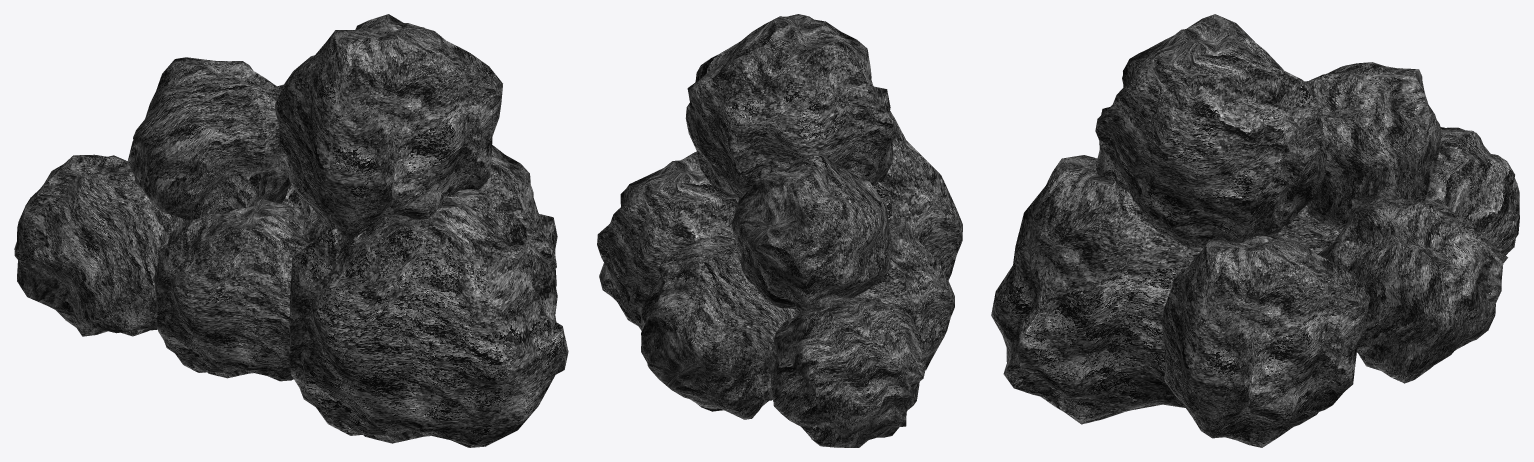
File: Rock Pile.FBX
3 renders of one model, left to right at view 1: azimuth 30°, elevation 25°; view 2: azimuth 150°, elevation 25°; view 3: azimuth 270°, elevation 25°, orthographic. The views are drawn at different scales.
Parts seen in each view (by area): view 1: GeoSphere170, GeoSphere169, GeoSphere168, GeoSphere174, GeoSphere173, GeoSphere172, GeoSphere171; view 2: GeoSphere169, GeoSphere173, GeoSphere171, GeoSphere174, GeoSphere172, GeoSphere170, GeoSphere168; view 3: GeoSphere169, GeoSphere170, GeoSphere172, GeoSphere171, GeoSphere173, GeoSphere174, GeoSphere168.
Boxes of the visible parts, x1,y1,x2,y2 form: GeoSphere170: (289,189,568,447); GeoSphere169: (274,14,502,238); GeoSphere168: (154,198,315,381); GeoSphere174: (14,154,186,336); GeoSphere173: (127,57,291,224); GeoSphere172: (479,144,557,286); GeoSphere171: (282,185,323,226); GeoSphere169: (685,14,897,204); GeoSphere173: (731,153,892,312); GeoSphere171: (640,235,798,419); GeoSphere174: (770,294,926,447); GeoSphere172: (597,151,736,330); GeoSphere170: (873,111,962,280); GeoSphere168: (854,217,954,370); GeoSphere169: (1095,14,1327,251); GeoSphere170: (991,155,1200,424); GeoSphere172: (1162,234,1370,447); GeoSphere171: (1317,197,1507,383); GeoSphere173: (1304,62,1441,227); GeoSphere174: (1424,127,1519,255); GeoSphere168: (1278,207,1343,254).
Size of the model in its own units: 43.9 by 36.62 by 46.03.
1 material, 1 textured.
